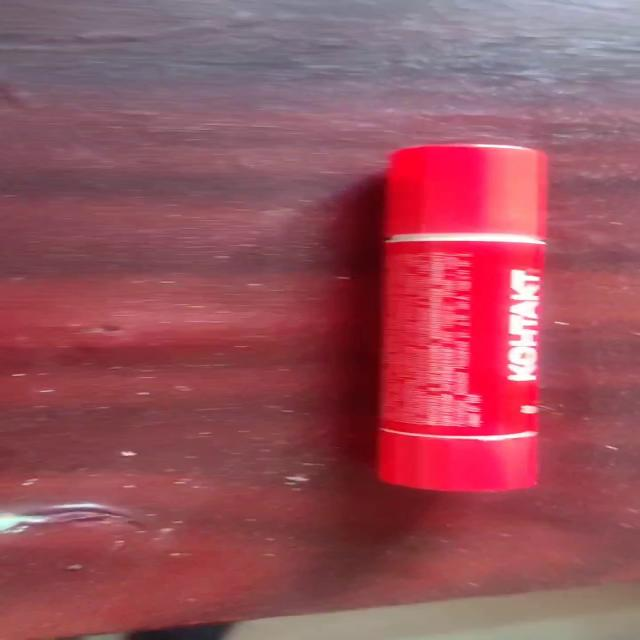glue: (374, 142, 550, 492)
